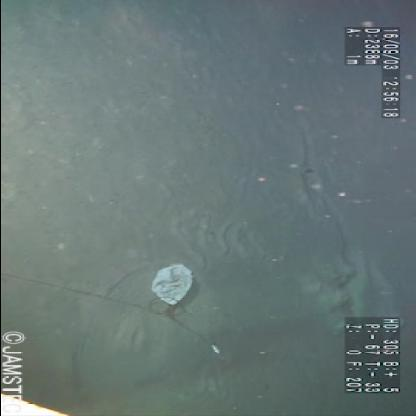Rác: (140, 258, 204, 316)
